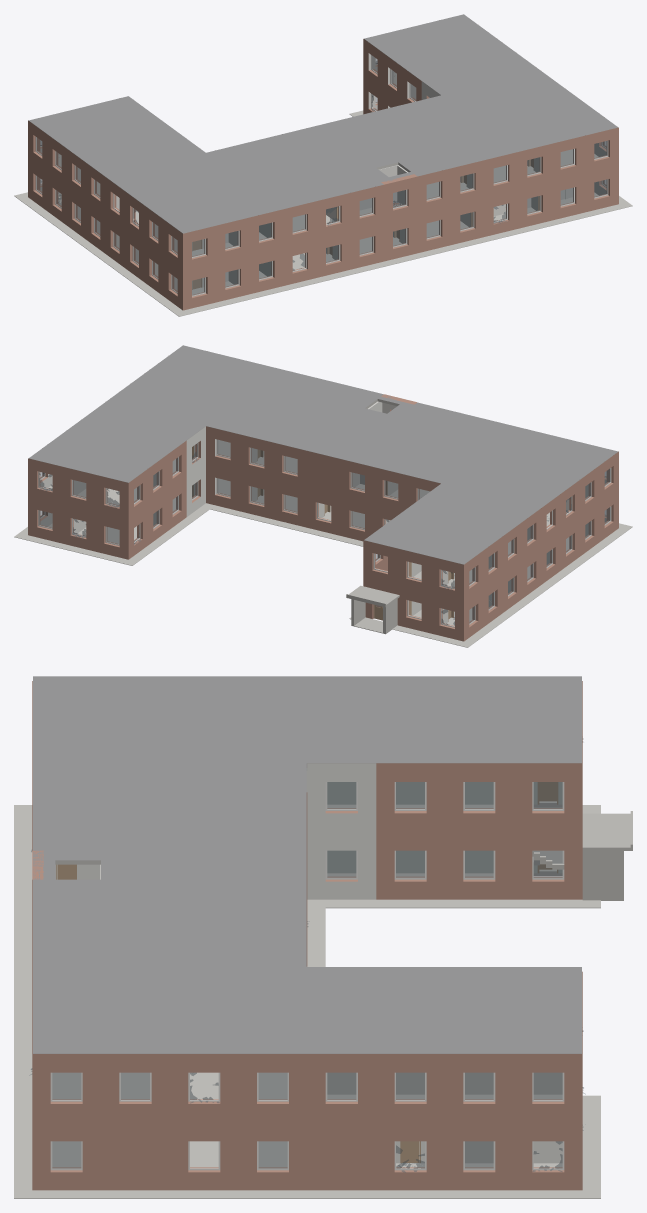
3 renders of one model, top to bottom at view 1: azimuth 30°, elevation 25°; view 2: azimuth 150°, elevation 25°; view 3: azimuth 270°, elevation 25°, orthographic. The views are drawn at different scales.
Parts seen in each view (by area): view 1: b7_slab_f02__roof, b7_outer_f01__brick_facade, b7_outer_f00__brick_facade, b7_apron_f00, b7_glass_f01, b7_glass_f00, b7_slab_f01__slab_top, b7_slab_f00__slab_top, b7_windows_f01, b7_windows_f00, b7_wall_gypsum_f01__wall_room, b7_wall_brick_f01__wall_room (+4 smaller); view 2: b7_slab_f02__roof, b7_outer_f01__brick_facade, b7_outer_f00__brick_facade, b7_apron_f00, b7_glass_f01, b7_glass_f00, b7_slab_f00__slab_top, b7_slab_f01__slab_top, b7_windows_f01, b7_porch_f00__monolith, b7_windows_f00, b7_outer_f01__wall_room (+5 smaller); view 3: b7_slab_f02__roof, b7_outer_f01__brick_facade, b7_outer_f00__brick_facade, b7_apron_f00, b7_glass_f01, b7_glass_f00, b7_slab_f01__slab_top, b7_outer_f01__wall_room, b7_outer_f00__wall_room, b7_slab_f00__slab_top, b7_wall_brick_f01__wall_room, b7_windows_f01 (+7 smaller).
Boxes of the visible parts, <box> form: b7_slab_f02__roof: <box>29,14,617,233</box>; b7_outer_f01__brick_facade: <box>28,39,618,274</box>; b7_outer_f00__brick_facade: <box>28,80,618,310</box>; b7_apron_f00: <box>14,110,632,316</box>; b7_glass_f01: <box>36,56,607,256</box>; b7_glass_f00: <box>36,94,607,295</box>; b7_slab_f01__slab_top: <box>58,73,598,256</box>; b7_slab_f00__slab_top: <box>58,192,598,294</box>; b7_windows_f01: <box>35,55,608,257</box>; b7_windows_f00: <box>35,93,608,296</box>; b7_wall_gypsum_f01__wall_room: <box>77,86,416,251</box>; b7_wall_brick_f01__wall_room: <box>228,157,539,245</box>; b7_slab_f02__roof: <box>29,345,617,564</box>; b7_outer_f01__brick_facade: <box>28,394,618,605</box>; b7_outer_f00__brick_facade: <box>28,467,618,641</box>; b7_apron_f00: <box>14,503,632,647</box>; b7_glass_f01: <box>39,440,610,589</box>; b7_glass_f00: <box>39,478,610,625</box>; b7_slab_f00__slab_top: <box>48,478,569,625</box>; b7_slab_f01__slab_top: <box>48,440,549,587</box>; b7_windows_f01: <box>38,409,611,588</box>; b7_porch_f00__monolith: <box>351,599,397,634</box>; b7_windows_f00: <box>38,478,611,627</box>; b7_outer_f01__wall_room: <box>40,402,606,487</box>; b7_slab_f02__roof: <box>33,676,581,1053</box>; b7_outer_f01__brick_facade: <box>32,681,582,1126</box>; b7_outer_f00__brick_facade: <box>32,836,582,1190</box>; b7_apron_f00: <box>14,805,600,1198</box>; b7_glass_f01: <box>31,738,585,1103</box>; b7_glass_f00: <box>29,850,583,1172</box>; b7_slab_f01__slab_top: <box>52,801,562,1098</box>; b7_outer_f01__wall_room: <box>306,763,376,836</box>; b7_outer_f00__wall_room: <box>307,836,376,899</box>; b7_slab_f00__slab_top: <box>52,869,562,1167</box>; b7_wall_brick_f01__wall_room: <box>55,864,562,1094</box>; b7_windows_f01: <box>50,782,564,1101</box>.
Size of the model in its own units: 40.6 by 6.82 by 27.
